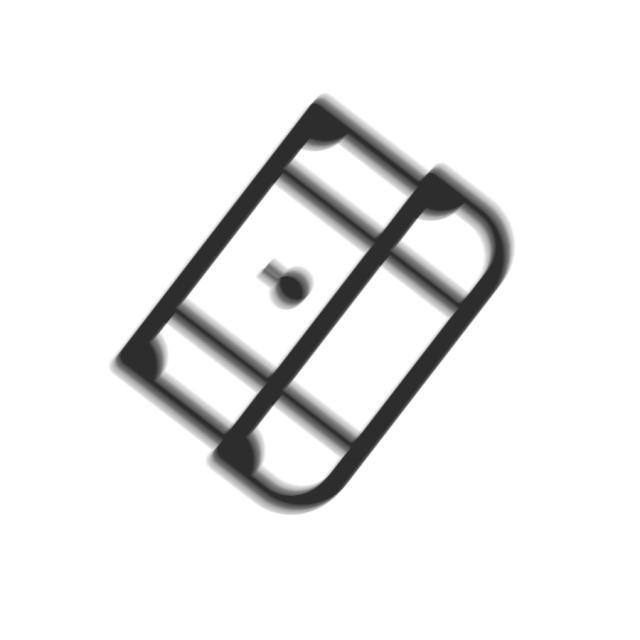treasure_box: (100, 91, 520, 526)
